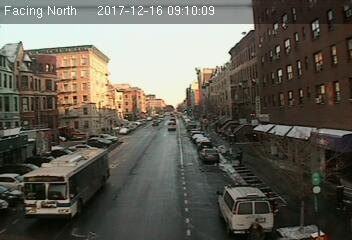bus: (22, 146, 124, 227)
car: (199, 148, 219, 161)
police: (215, 180, 275, 234)
